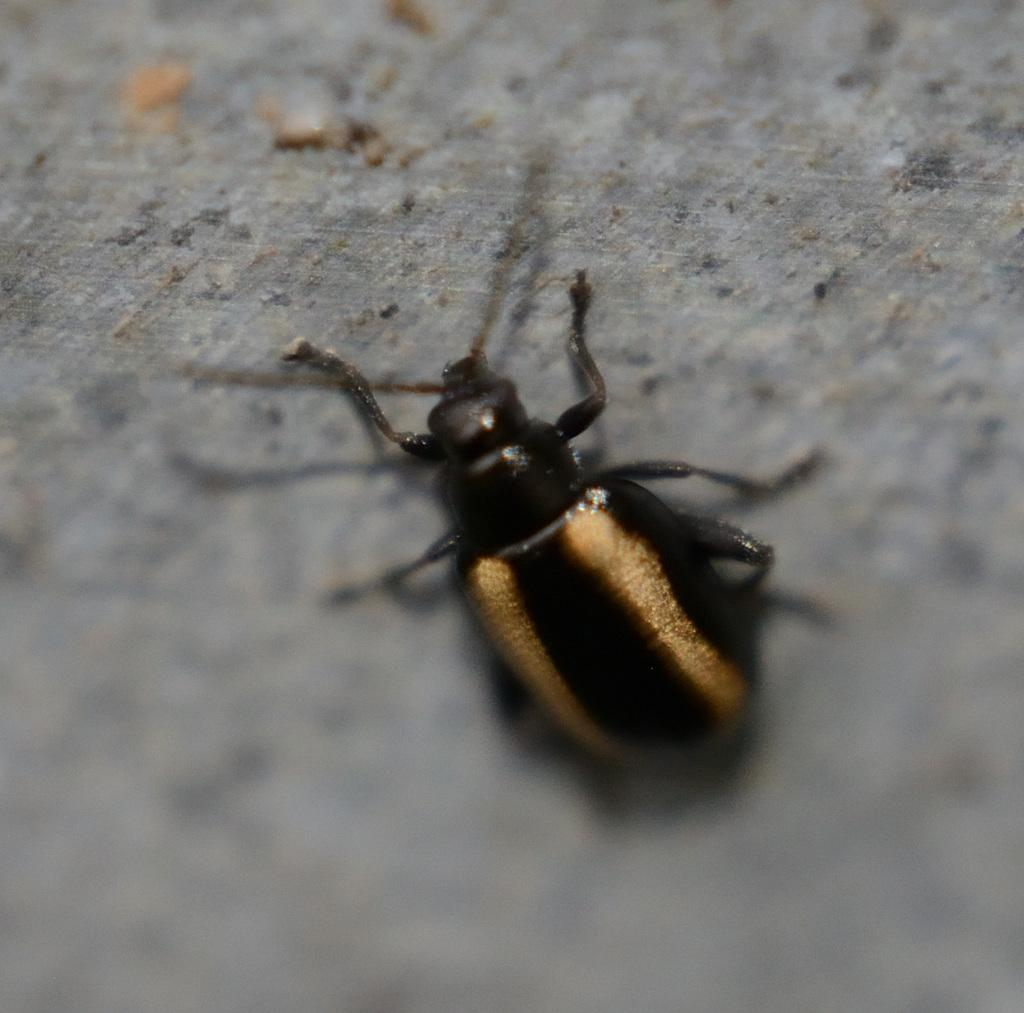flea_beetle: (223, 225, 875, 821)
